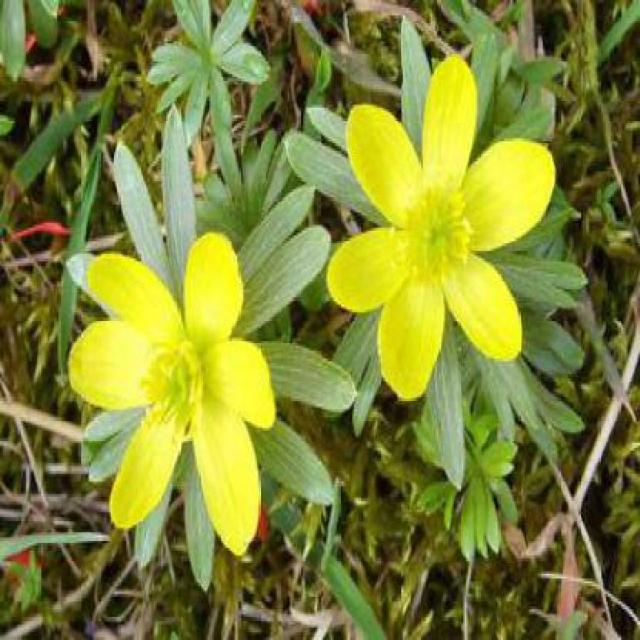Flower: (328, 56, 555, 399), (69, 233, 276, 559), (392, 171, 473, 287), (145, 349, 203, 433)
